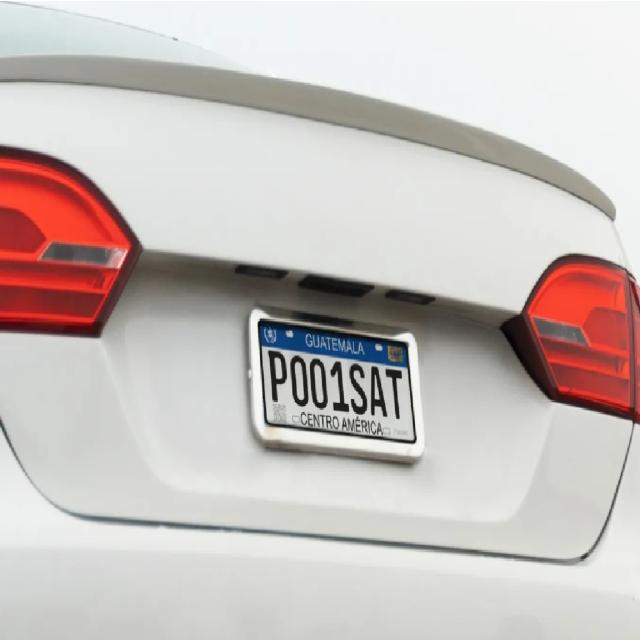Placas: (246, 299, 427, 463)
